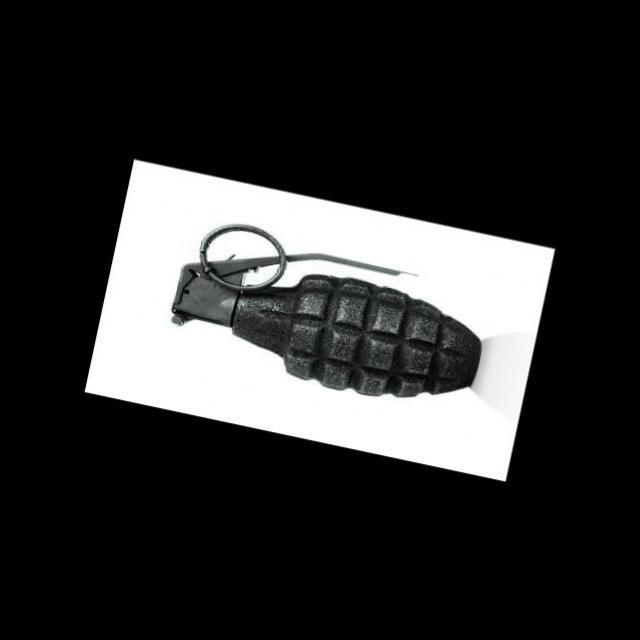grenade: (137, 206, 510, 421)
